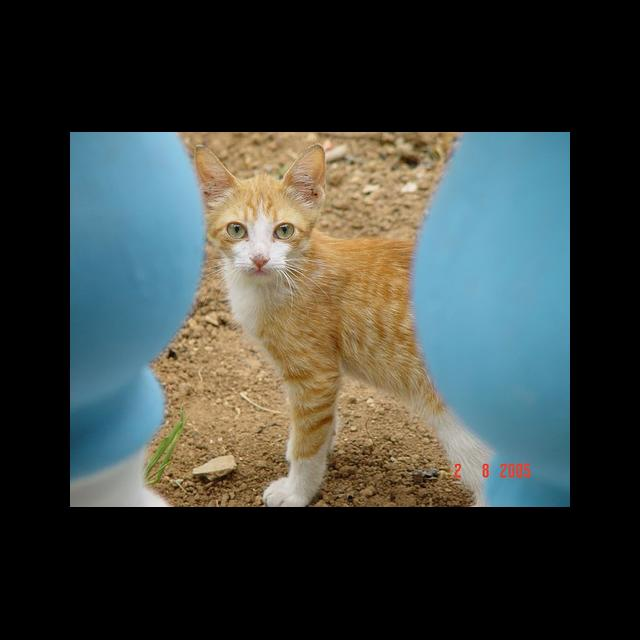animals: (198, 146, 319, 266)
